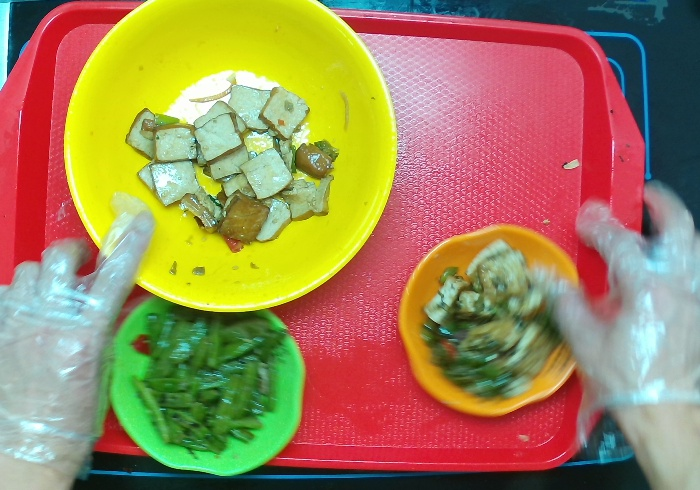YKMZ-Huang_Se_Tang_Wan: (62, 1, 399, 314)
YKMZ-Ju_Se_Ao_Bian_Wan: (395, 222, 583, 417)
YKMZ-Lv_Se_Ao_Bian_Wan: (107, 294, 307, 477)
